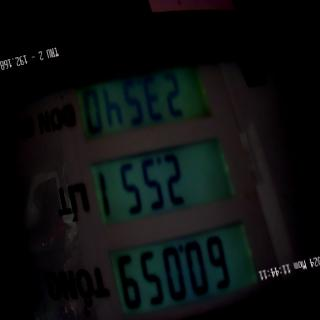screen: (53, 23, 265, 320)
